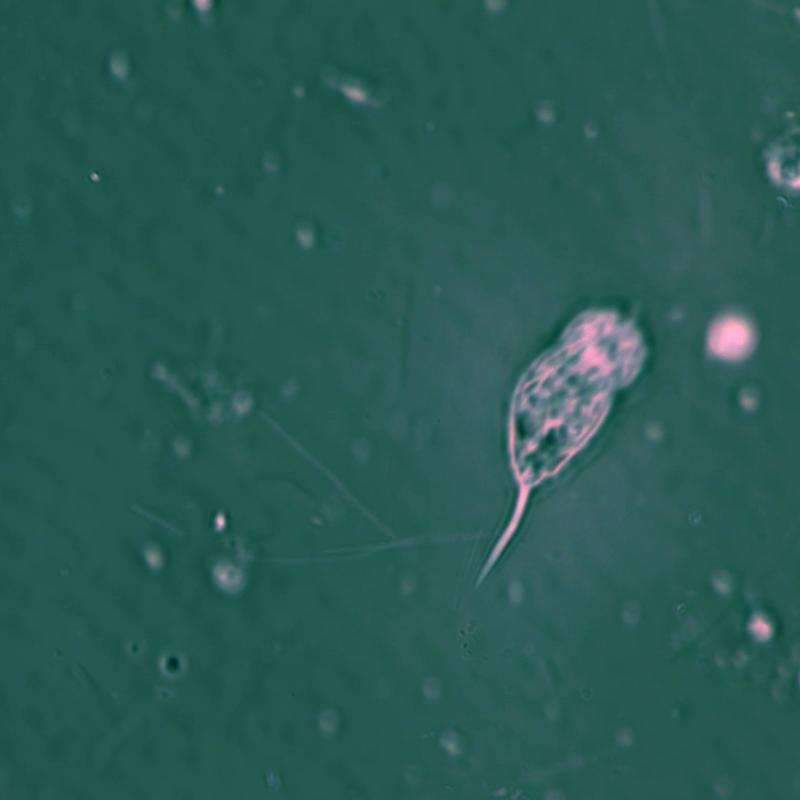depth:20: (467, 282, 678, 614)
